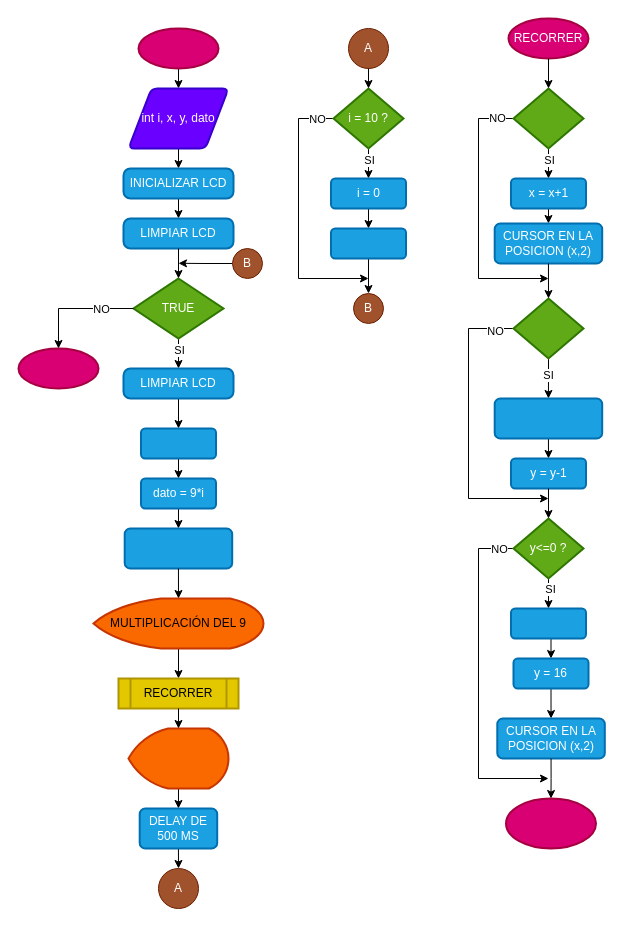
Some shapes in this 623 by 926 pixel diagram are drawn without their labels. Here are the shapes that lost their labels. From the top down, the box of each, then its label:
(137, 27, 219, 69): INICIO
(512, 87, 584, 149): x<16 ?
(330, 227, 406, 259): dato = 0
(512, 297, 584, 359): x>=16 ?
(17, 347, 99, 389): FIN
(493, 397, 603, 439): CURSOR EN LA POSICION (y,2)
(140, 427, 216, 459): i=i+1
(123, 527, 233, 569): CURSOR EN LA POSICION (1,1)
(510, 607, 586, 639): x = 1
(127, 727, 229, 789): MOSTRAR VALOR dato
(504, 797, 596, 849): VOLVER DE FUNCIÓN
